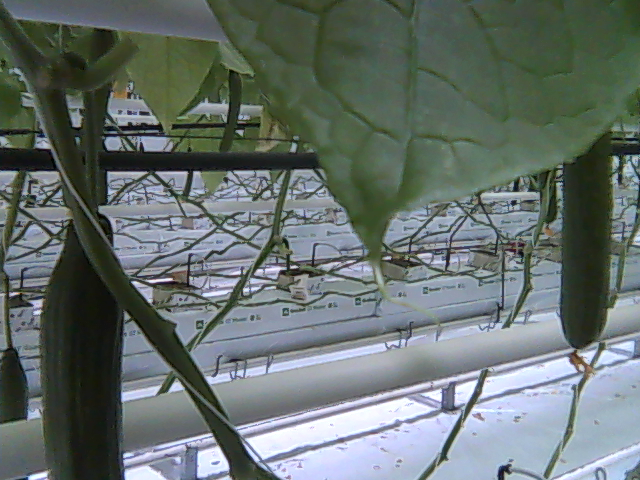concombre: (36, 186, 129, 480), (557, 126, 618, 376)
